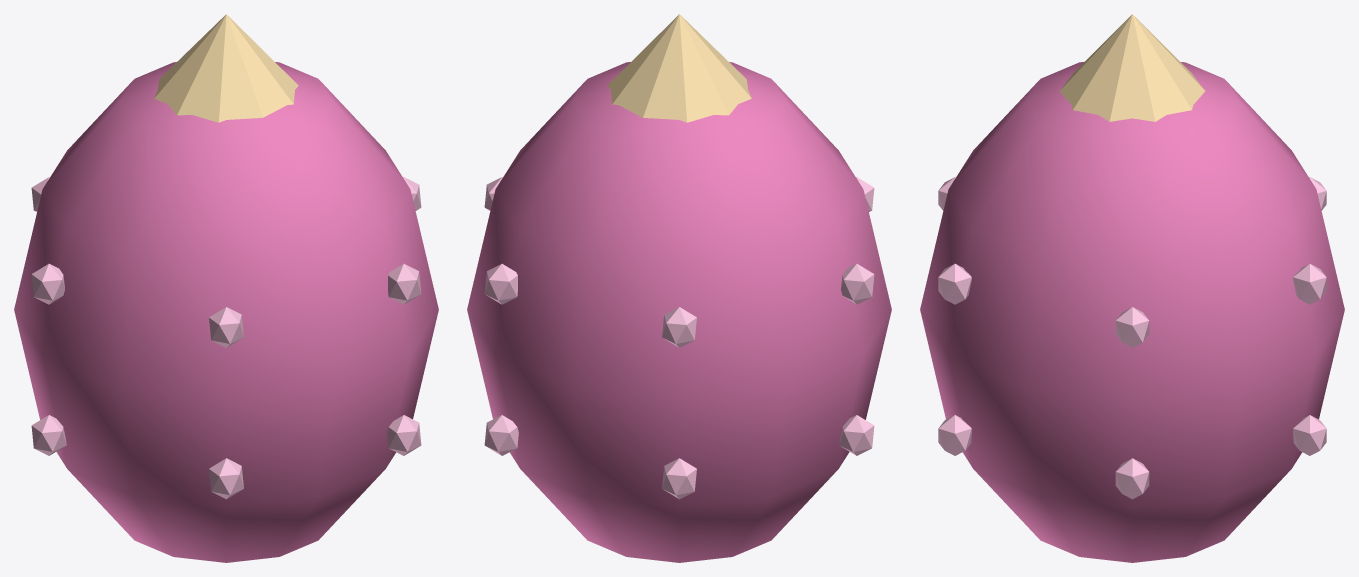
Rendered from food-desert.glb.
The picture shows the model from 3 angles, left to right: view 1: azimuth 30°, elevation 25°; view 2: azimuth 150°, elevation 25°; view 3: azimuth 270°, elevation 25°; orthographic projection.
Parts seen in each view (by area): view 1: Prickly pear fruit, Fruit crown, Fruit areole.005, Fruit areole.011, Fruit areole.006, Fruit areole, Fruit areole.004, Fruit areole.010; view 2: Prickly pear fruit, Fruit crown, Fruit areole.003, Fruit areole.009, Fruit areole.002, Fruit areole.008, Fruit areole.004, Fruit areole.010; view 3: Prickly pear fruit, Fruit crown, Fruit areole.001, Fruit areole.007, Fruit areole.002, Fruit areole.006, Fruit areole.008, Fruit areole.
Part boxes in pixels (x1=…): Prickly pear fruit: x1=14, y1=62, x2=438, y2=562; Fruit crown: x1=154, y1=14, x2=298, y2=122; Fruit areole.005: x1=209, y1=458, x2=243, y2=499; Fruit areole.011: x1=209, y1=307, x2=243, y2=347; Fruit areole.006: x1=387, y1=415, x2=421, y2=455; Fruit areole: x1=388, y1=263, x2=421, y2=304; Fruit areole.004: x1=31, y1=415, x2=66, y2=455; Fruit areole.010: x1=31, y1=263, x2=64, y2=304; Prickly pear fruit: x1=467, y1=62, x2=891, y2=562; Fruit crown: x1=607, y1=14, x2=751, y2=122; Fruit areole.003: x1=662, y1=458, x2=696, y2=499; Fruit areole.009: x1=662, y1=307, x2=696, y2=347; Fruit areole.002: x1=484, y1=415, x2=518, y2=455; Fruit areole.008: x1=484, y1=263, x2=517, y2=304; Fruit areole.004: x1=839, y1=415, x2=874, y2=455; Fruit areole.010: x1=841, y1=263, x2=874, y2=304; Prickly pear fruit: x1=920, y1=62, x2=1344, y2=562; Fruit crown: x1=1059, y1=14, x2=1205, y2=121; Fruit areole.001: x1=1115, y1=458, x2=1149, y2=499; Fruit areole.007: x1=1115, y1=307, x2=1149, y2=347; Fruit areole.002: x1=1293, y1=415, x2=1326, y2=455; Fruit areole.006: x1=938, y1=415, x2=971, y2=455; Fruit areole.008: x1=1293, y1=263, x2=1326, y2=304; Fruit areole: x1=938, y1=263, x2=971, y2=304.
Size of the model in its own units: 0.5865 by 0.78 by 0.56.
